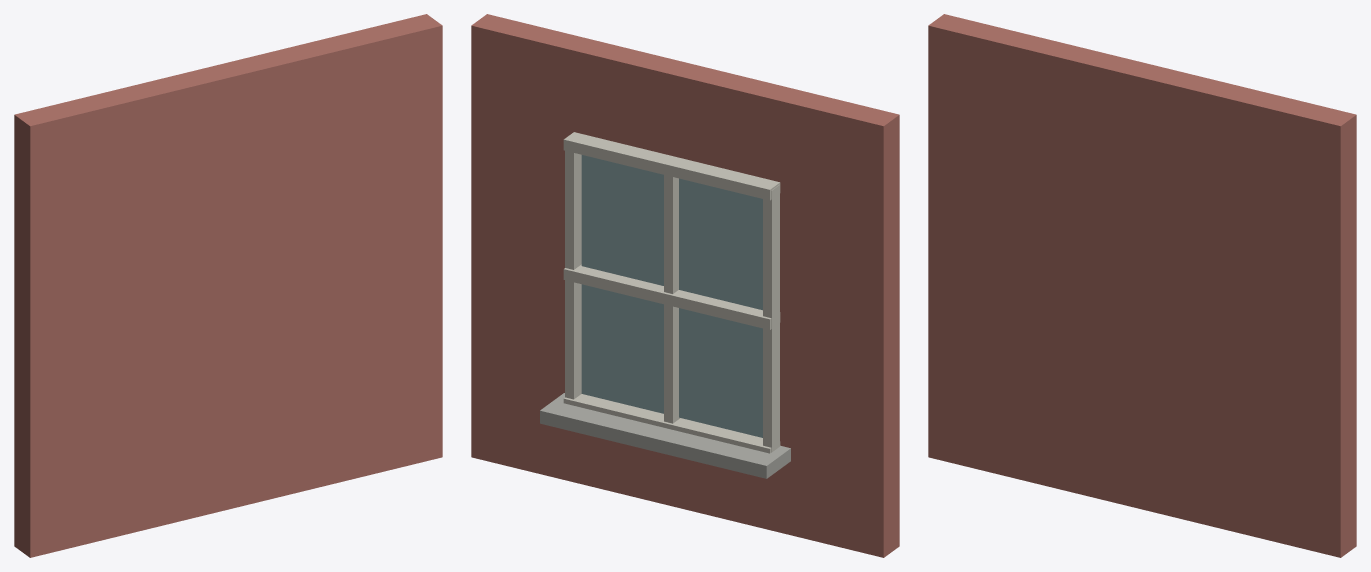
File: window_plaster_rose.glb
3 renders of one model, left to right at view 1: azimuth 30°, elevation 25°; view 2: azimuth 150°, elevation 25°; view 3: azimuth 330°, elevation 25°, orthographic.
Visible parts, largest first — view 1: body; view 2: body; view 3: body.
Boxes of the visible parts, x1,y1,x2,y2 form: body: (14,14,442,557); body: (471,14,899,557); body: (928,14,1356,557).
Size of the model in its own units: 3 by 3 by 0.505.
